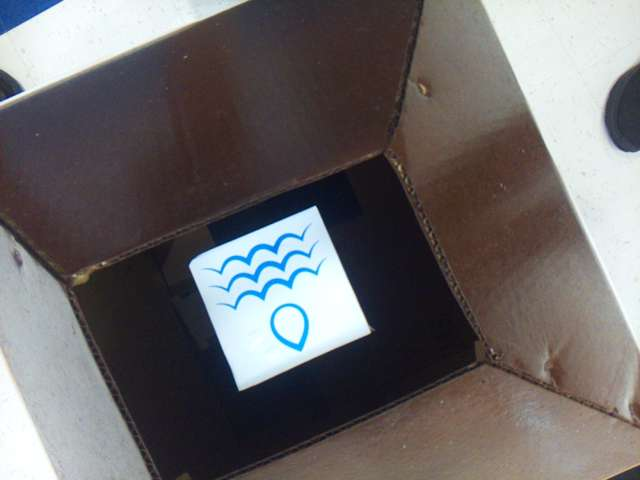water_barn: (191, 208, 368, 388)
